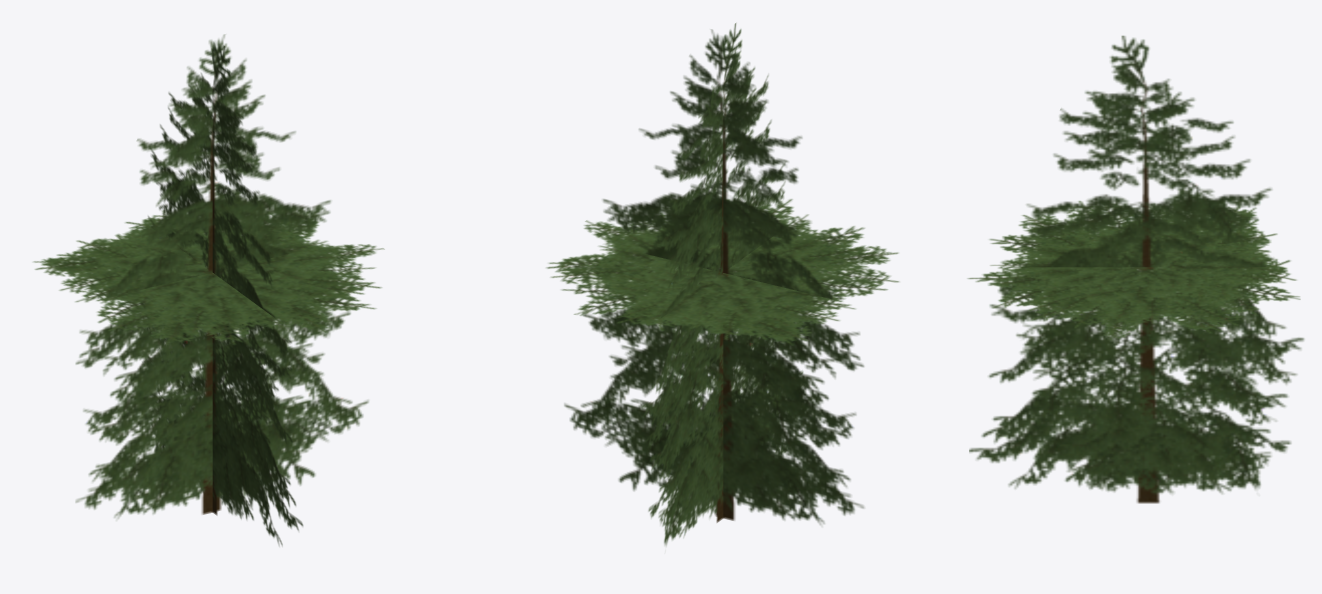
File: fir-medium-2-lod-3.glb
The picture shows the model from 3 angles, left to right: view 1: azimuth 30°, elevation 25°; view 2: azimuth 150°, elevation 25°; view 3: azimuth 270°, elevation 25°; orthographic projection. The views are drawn at different scales.
Parts seen in each view (by area): view 1: fir-medium-2-lod-3; view 2: fir-medium-2-lod-3; view 3: fir-medium-2-lod-3.
Part boxes in pixels (<box>): fir-medium-2-lod-3: <box>33,34,384,545</box>; fir-medium-2-lod-3: <box>546,23,899,545</box>; fir-medium-2-lod-3: <box>967,35,1304,503</box>.
Size of the model in its own units: 2.72 by 4.12 by 2.73.
Materials: 1 (1 with a texture image).
